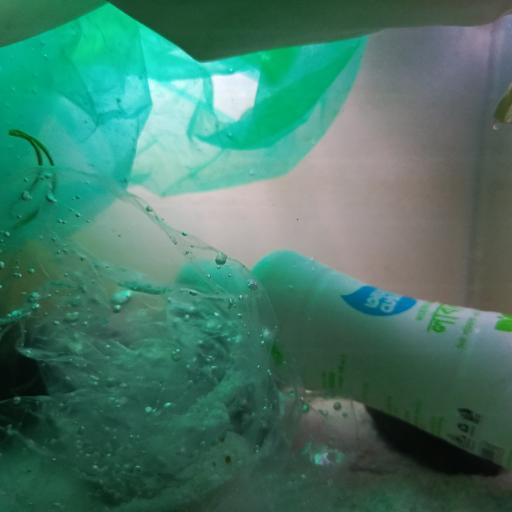glove: (0, 0, 512, 64)
plastic_bottle: (180, 249, 512, 472)
